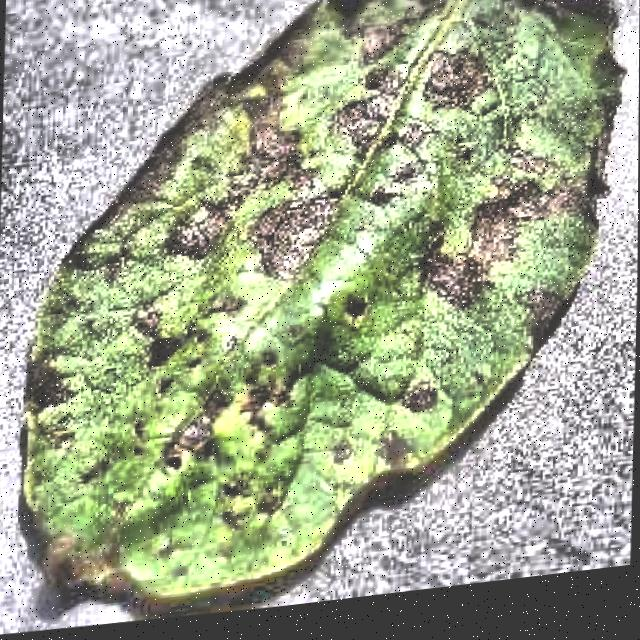Potato_leaf_early_blight: (25, 0, 617, 595)
